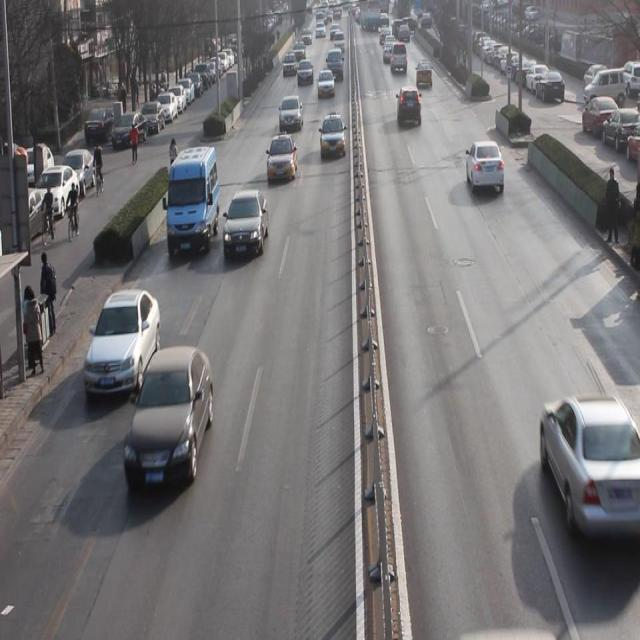car: (540, 397, 640, 541), (124, 354, 215, 492), (83, 290, 160, 395), (223, 188, 269, 264), (465, 138, 506, 196), (267, 131, 298, 185), (319, 111, 347, 160), (399, 84, 421, 128), (279, 95, 303, 134), (316, 68, 335, 99), (296, 56, 315, 86), (282, 50, 298, 76)
truck: (165, 144, 221, 260), (326, 47, 345, 82)
